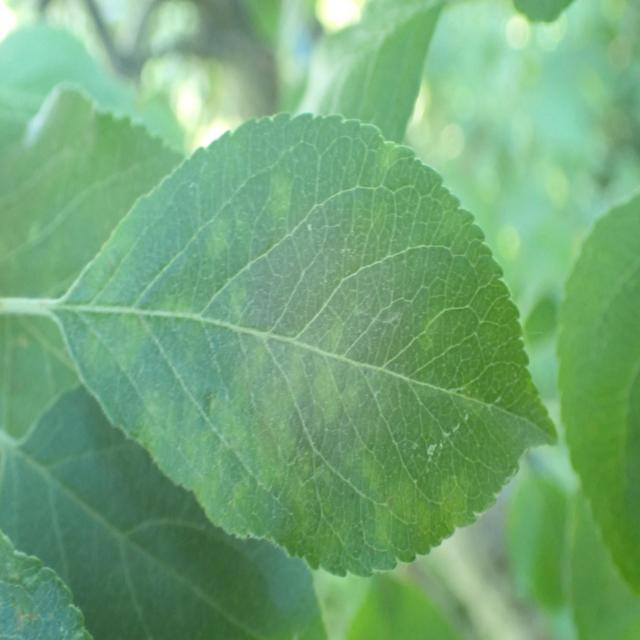scab: (107, 232, 471, 550)
